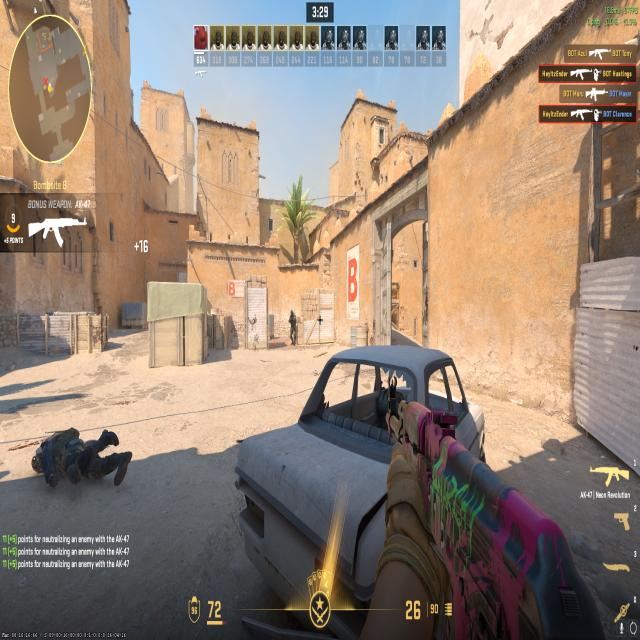ct: (285, 306, 298, 348)
